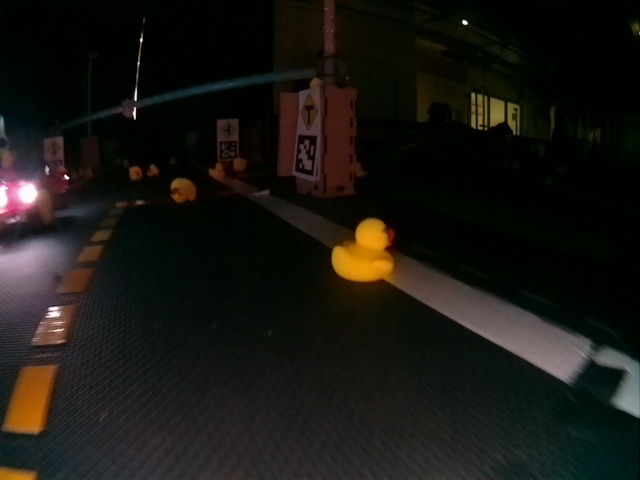Duckie: (332, 217, 395, 281), (170, 177, 196, 202), (209, 163, 225, 178), (129, 166, 142, 179), (235, 157, 246, 171), (148, 164, 159, 176)
Duckiebot: (1, 165, 55, 237)
Intersection sign: (300, 93, 318, 126), (220, 121, 238, 139)
QR code: (295, 133, 317, 175), (221, 141, 237, 160)
